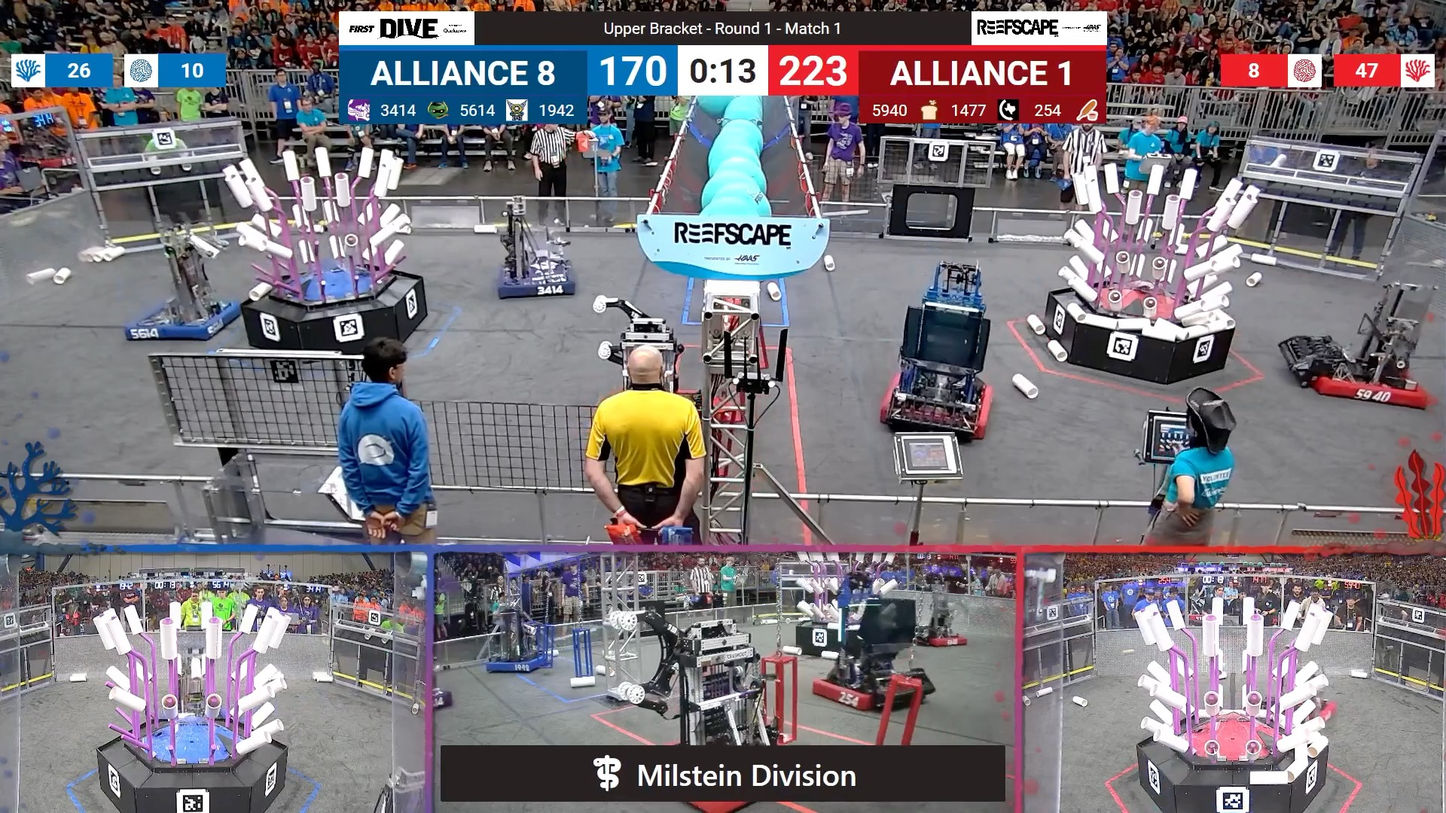bumpers: (1278, 342, 1432, 412), (876, 371, 1000, 441), (125, 295, 246, 347), (805, 669, 910, 712), (495, 257, 584, 302), (480, 653, 555, 679), (918, 628, 970, 648)
